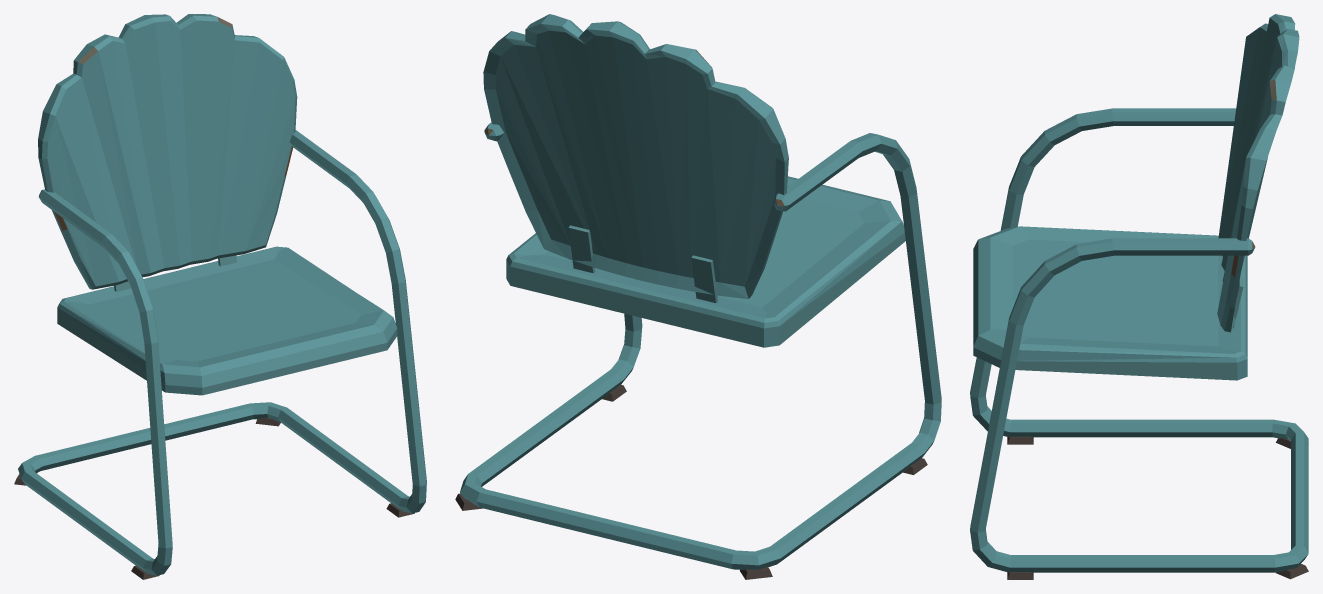
The model's file is motel-shell-chair-8a22f6.glb.
3 renders of one model, left to right at view 1: azimuth 30°, elevation 25°; view 2: azimuth 150°, elevation 25°; view 3: azimuth 270°, elevation 25°, orthographic. The views are drawn at different scales.
Parts seen in each view (by area): view 1: motel-shell-chair-mesh; view 2: motel-shell-chair-mesh; view 3: motel-shell-chair-mesh.
Boxes of the visible parts, <box> form: motel-shell-chair-mesh: <box>14,14,426,579</box>; motel-shell-chair-mesh: <box>455,14,941,579</box>; motel-shell-chair-mesh: <box>970,14,1308,579</box>.
Size of the model in its own units: 0.522 by 0.7999 by 0.5186.
